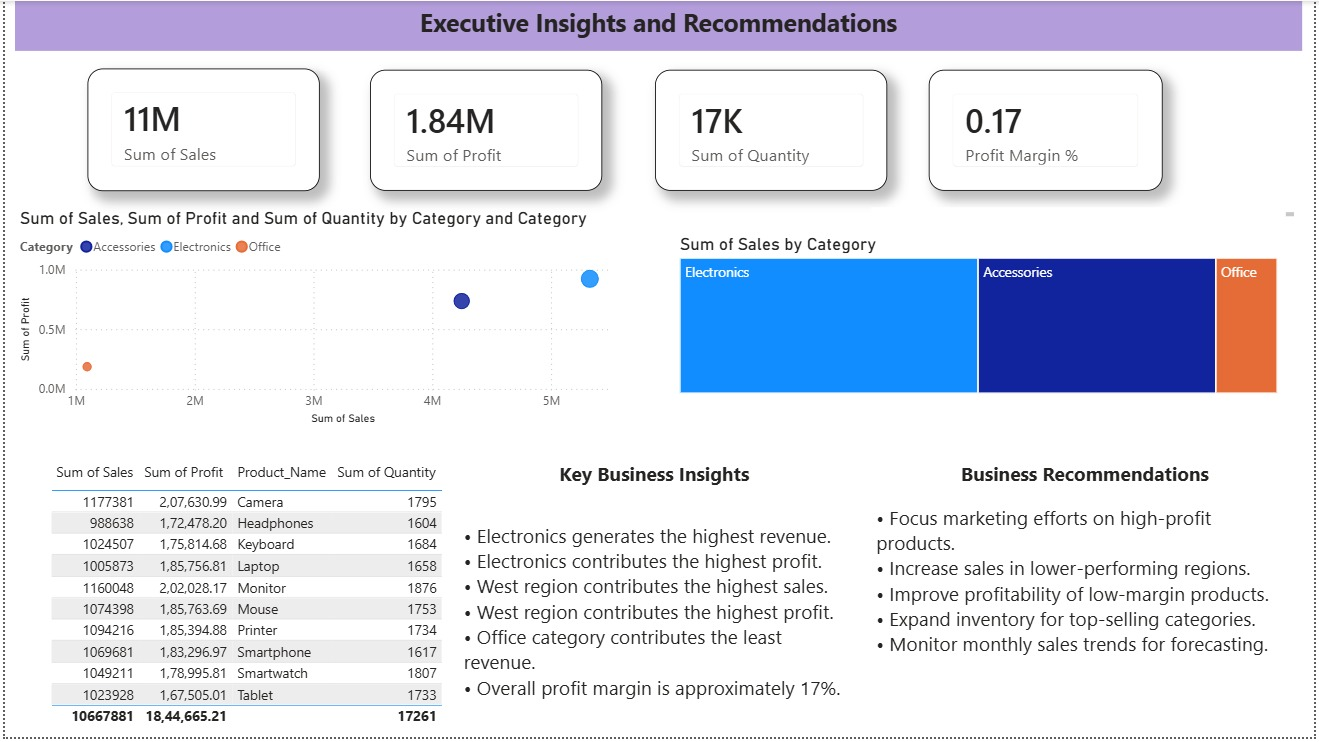

The page's visual inventory and layout, read from the dashboard file:
{"tool":"powerbi","page":{"name":"Executive Insights and Recommendations","canvas":[1280,720],"ordinal":3},"visuals":[{"type":"textbox","box":[9.8,0,1259,49],"z":0},{"type":"scatterChart","fields":{"Category":["ecommerce_sales_cleaned.Category"],"X":["Sum(ecommerce_sales_cleaned.Sales)"],"Y":["Sum(ecommerce_sales_cleaned.Profit)"],"Series":["ecommerce_sales_cleaned.Category"],"Size":["Sum(ecommerce_sales_cleaned.Quantity)"]},"box":[9.8,201.8,596.7,217.7],"z":1000},{"type":"cardVisual","fields":{"Data":["Sum(ecommerce_sales_cleaned.Profit)"]},"box":[357.1,67.3,227.4,118.6],"z":2000},{"type":"cardVisual","fields":{"Data":["Sum(ecommerce_sales_cleaned.Quantity)"]},"box":[635.9,67.3,227.4,118.6],"z":3000},{"type":"cardVisual","fields":{"Data":["ecommerce_sales_cleaned.Profit Margin %"]},"box":[903.7,67.3,228.7,118.6],"z":4000},{"type":"cardVisual","fields":{"Data":["Sum(ecommerce_sales_cleaned.Sales)"]},"box":[80.7,66,227.4,119.8],"z":5000},{"type":"treemap","fields":{"Values":["Sum(ecommerce_sales_cleaned.Sales)"],"Group":["ecommerce_sales_cleaned.Category"]},"box":[655.4,227.4,594.3,161.4],"z":6000},{"type":"tableEx","fields":{"Values":["Sum(ecommerce_sales_cleaned.Sales)","Sum(ecommerce_sales_cleaned.Profit)","ecommerce_sales_cleaned.Product_Name","Sum(ecommerce_sales_cleaned.Quantity)"]},"box":[39.1,445.1,418.2,275.1],"z":7000},{"type":"textbox","box":[847.4,201.8,418.2,13.5],"z":8000},{"type":"textbox","box":[443.9,445.1,382.7,261.7],"z":9000},{"type":"textbox","box":[847.4,445.1,418.2,261.7],"z":10000}]}

Visuals, with their boxes in screenshot pixels (x1, y1, x2, y2), scaled from the page's 1280x720 canvas onto the 1319x742 screenshot:
textbox: box(10, 0, 1307, 50)
scatterChart - ecommerce_sales_cleaned.Category x Sum(ecommerce_sales_cleaned.Sales): box(10, 208, 625, 432)
cardVisual - Sum(ecommerce_sales_cleaned.Profit): box(368, 69, 602, 192)
cardVisual - Sum(ecommerce_sales_cleaned.Quantity): box(655, 69, 890, 192)
cardVisual - ecommerce_sales_cleaned.Profit Margin %: box(931, 69, 1167, 192)
cardVisual - Sum(ecommerce_sales_cleaned.Sales): box(83, 68, 317, 191)
treemap - Sum(ecommerce_sales_cleaned.Sales) x ecommerce_sales_cleaned.Category: box(675, 234, 1288, 401)
tableEx - Sum(ecommerce_sales_cleaned.Sales) x Sum(ecommerce_sales_cleaned.Profit): box(40, 459, 471, 741)
textbox: box(873, 208, 1304, 222)
textbox: box(457, 459, 852, 728)
textbox: box(873, 459, 1304, 728)
